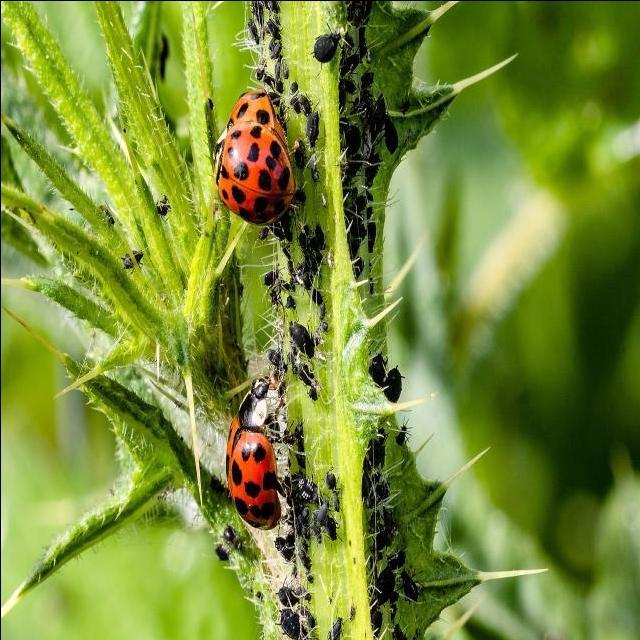aphid: (312, 0, 398, 281), (244, 0, 330, 242), (266, 422, 343, 639), (361, 417, 417, 639), (264, 222, 327, 384), (215, 525, 248, 560), (365, 346, 389, 390), (384, 366, 410, 406), (365, 431, 386, 476), (327, 612, 342, 640), (395, 430, 408, 448)
